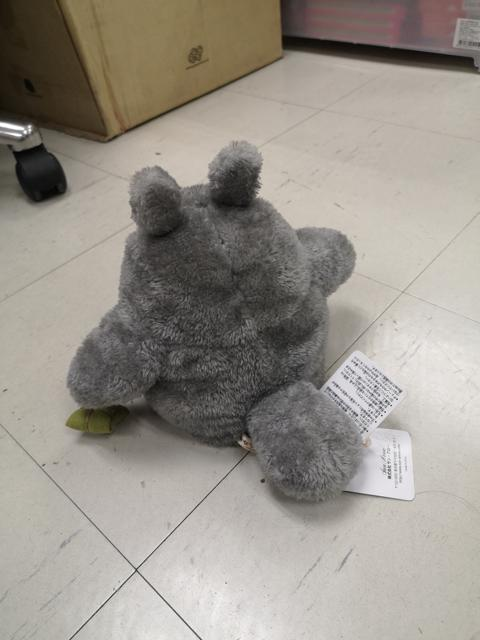totoro: (53, 134, 376, 517)
